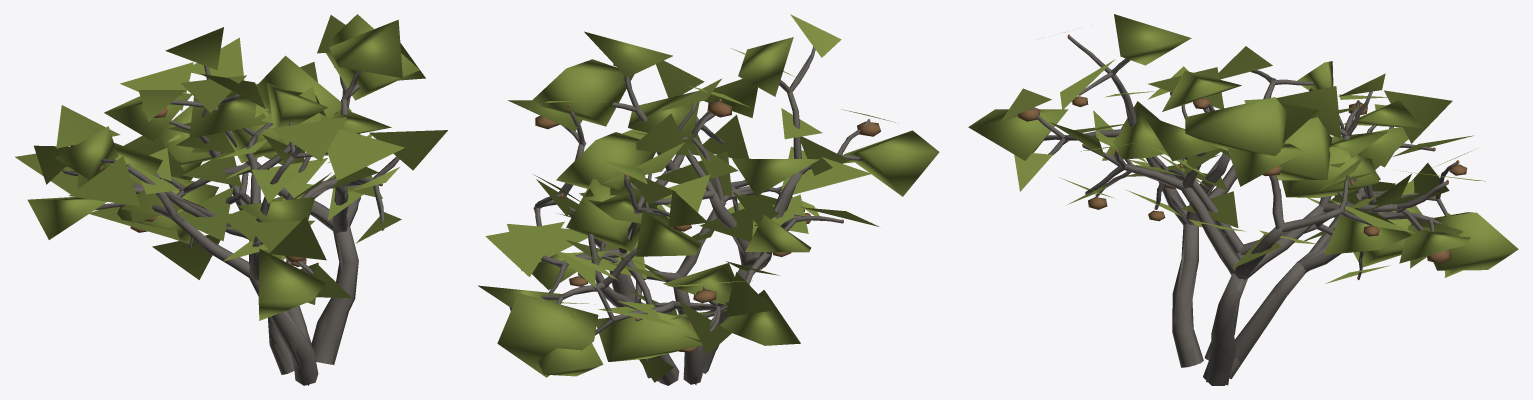
The model's file is scrub_oak_0.glb.
The picture shows the model from 3 angles, left to right: view 1: azimuth 30°, elevation 25°; view 2: azimuth 150°, elevation 25°; view 3: azimuth 270°, elevation 25°; orthographic projection.
Parts seen in each view (by area): view 1: ScrubOak_LOD_Far_Foliage, ScrubOak_LimbWood_0, ScrubOak_LimbWood_3, ScrubOak_LOD_Far_Bark, ScrubOak_LimbWood_1, ScrubOak_LimbWood_2; view 2: ScrubOak_LOD_Far_Foliage, ScrubOak_LimbWood_3, ScrubOak_LimbWood_0, ScrubOak_LOD_Far_Bark, ScrubOak_LimbWood_1, ScrubOak_LimbWood_2; view 3: ScrubOak_LOD_Far_Foliage, ScrubOak_LimbWood_0, ScrubOak_LimbWood_3, ScrubOak_LOD_Far_Bark, ScrubOak_LimbWood_1, ScrubOak_LimbWood_2.
Boxes of the visible parts, <box> form: ScrubOak_LOD_Far_Foliage: <box>15,14,447,320</box>; ScrubOak_LimbWood_0: <box>161,65,399,364</box>; ScrubOak_LimbWood_3: <box>100,122,327,385</box>; ScrubOak_LOD_Far_Bark: <box>68,71,396,385</box>; ScrubOak_LimbWood_1: <box>62,108,309,341</box>; ScrubOak_LimbWood_2: <box>189,157,310,374</box>; ScrubOak_LOD_Far_Foliage: <box>478,14,939,382</box>; ScrubOak_LimbWood_3: <box>629,46,869,373</box>; ScrubOak_LimbWood_0: <box>535,76,747,321</box>; ScrubOak_LOD_Far_Bark: <box>533,55,862,384</box>; ScrubOak_LimbWood_1: <box>540,200,728,385</box>; ScrubOak_LimbWood_2: <box>600,101,804,384</box>; ScrubOak_LOD_Far_Foliage: <box>968,14,1518,283</box>; ScrubOak_LimbWood_0: <box>1083,92,1448,385</box>; ScrubOak_LimbWood_3: <box>1029,36,1313,367</box>; ScrubOak_LOD_Far_Bark: <box>1037,45,1444,385</box>; ScrubOak_LimbWood_1: <box>1234,117,1457,370</box>; ScrubOak_LimbWood_2: <box>1096,104,1369,360</box>.
Size of what is drawn, in the model's own units: 3.09 by 2.74 by 4.14.
